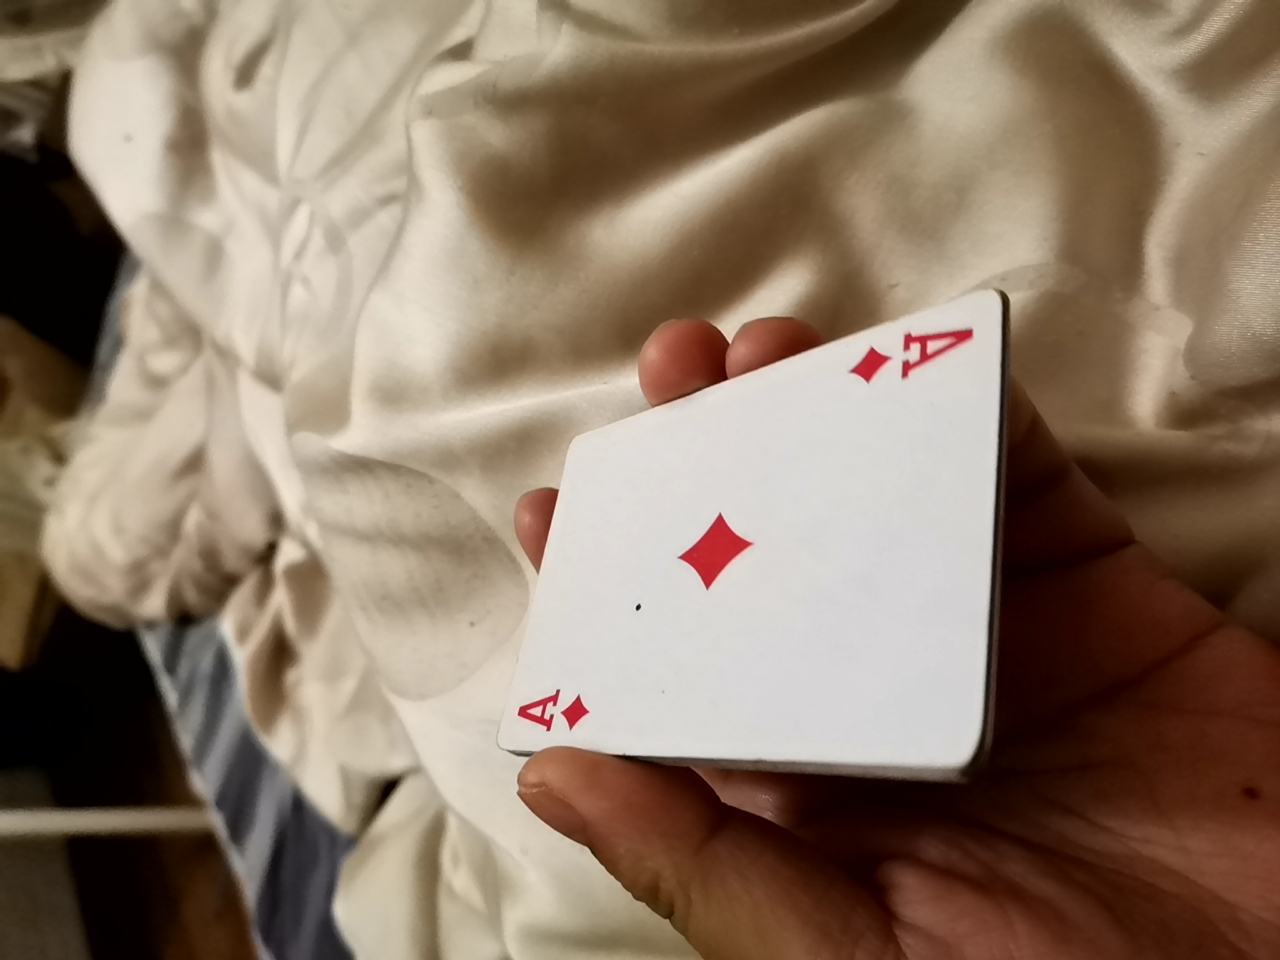fk a: (482, 346, 1043, 810)
